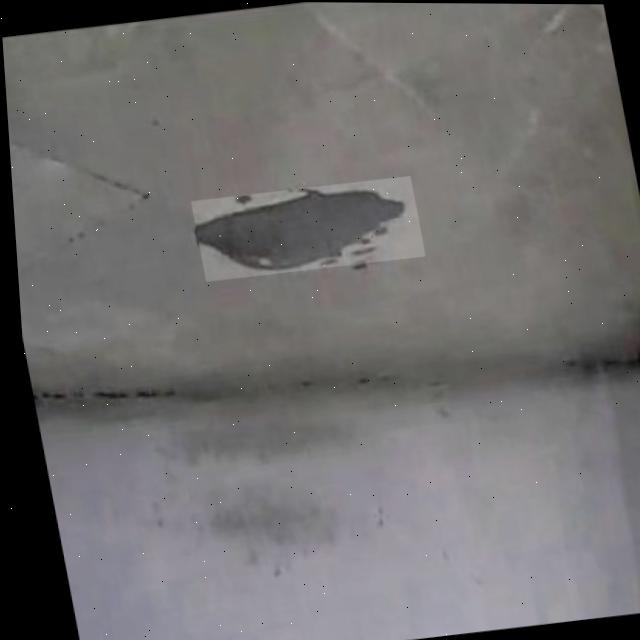spillage: (194, 187, 414, 272)
